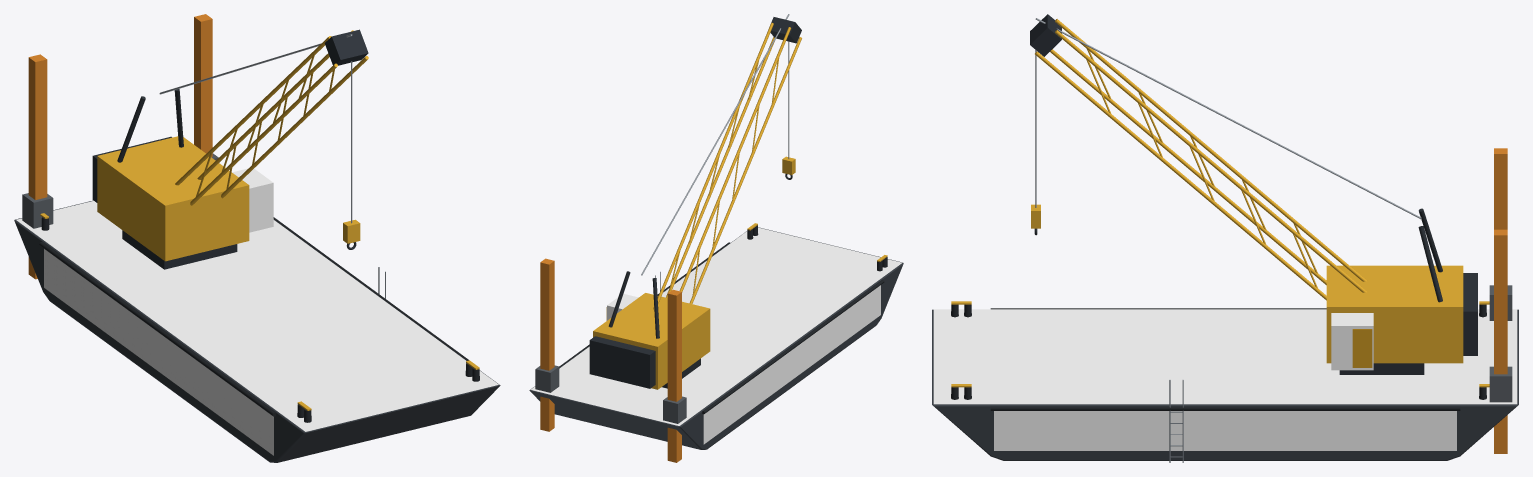
The model's file is fleet--salvageCraneBarge.glb.
3 views of the same model, side by side, from view 1: azimuth 30°, elevation 25°; view 2: azimuth 150°, elevation 25°; view 3: azimuth 270°, elevation 25° (orthographic). The views are drawn at different scales.
Parts seen in each view (by area): view 1: salvageCraneBarge:shell, house, boom, spud2, spud1; view 2: salvageCraneBarge:shell, house, boom, spud1, spud2, counterweight; view 3: salvageCraneBarge:shell, house, boom, spud1, spud2, counterweight, cabDoor.
Boxes of the visible parts, x1,y1,x2,y2 form: salvageCraneBarge:shell: (14, 200, 500, 462); house: (97, 34, 352, 261); boom: (175, 29, 368, 205); spud2: (22, 54, 53, 279); spud1: (194, 14, 218, 160); salvageCraneBarge:shell: (529, 227, 903, 449); house: (593, 14, 789, 389); boom: (653, 17, 801, 309); spud1: (535, 258, 559, 431); spud2: (663, 289, 686, 462); counterweight: (589, 336, 655, 388); salvageCraneBarge:shell: (932, 308, 1518, 460); house: (1035, 18, 1463, 370); boom: (1030, 14, 1367, 300); spud1: (1489, 229, 1512, 453); spud2: (1489, 148, 1512, 320); counterweight: (1463, 273, 1477, 355); cabDoor: (1352, 329, 1372, 367).
Bounding box in the file's own units: 7.24 × 13.39 × 18.
